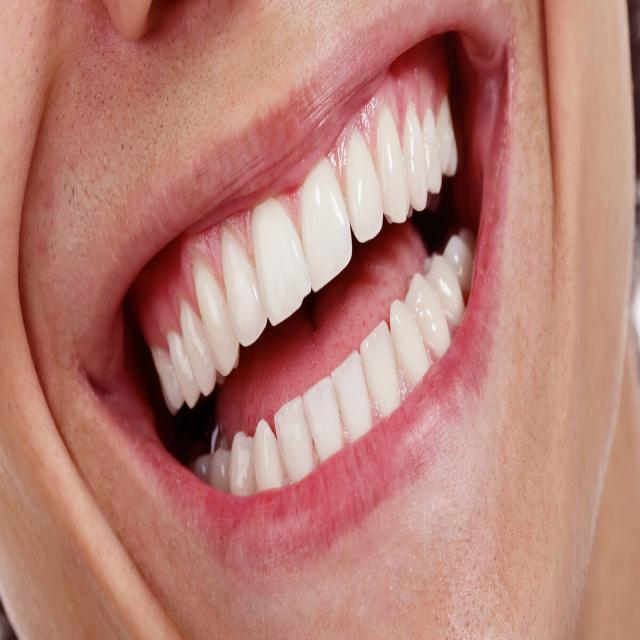tooth: (252, 209, 303, 317), (333, 142, 380, 255), (296, 180, 346, 274), (186, 260, 229, 362), (216, 240, 259, 342), (372, 115, 409, 225), (176, 311, 212, 400), (390, 301, 424, 393), (360, 322, 393, 403), (403, 109, 425, 222), (276, 408, 314, 471), (437, 103, 472, 167), (406, 284, 442, 344), (426, 260, 460, 320), (329, 361, 363, 417), (254, 415, 278, 489), (308, 394, 339, 448), (421, 121, 440, 190), (234, 435, 256, 486), (210, 444, 227, 496)
